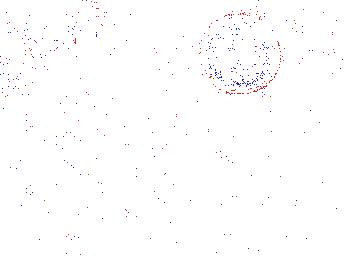moon jellyfish: (198, 13, 282, 95), (1, 1, 101, 65), (258, 1, 346, 62), (1, 12, 30, 75)
